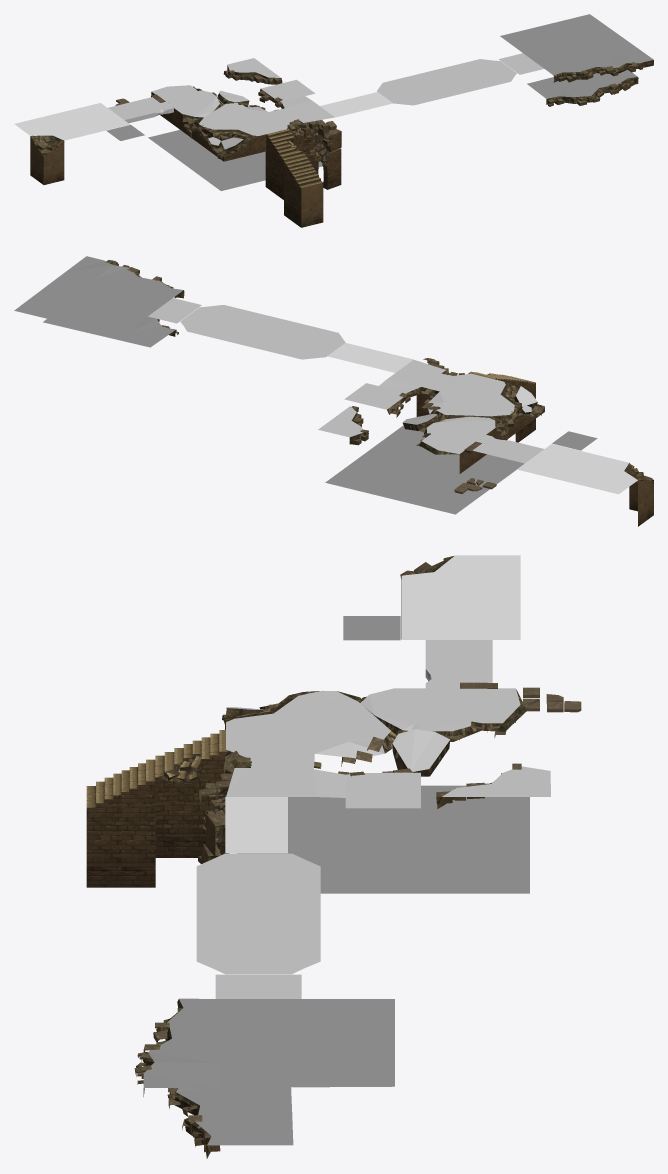
Rendered from hjzc_Terrain_001.FBX.
The picture shows the model from 3 angles, top to bottom: view 1: azimuth 30°, elevation 25°; view 2: azimuth 150°, elevation 25°; view 3: azimuth 270°, elevation 25°; orthographic projection. The views are drawn at different scales.
Parts seen in each view (by area): view 1: hjzc_Terrain_005, hjzc_Terrain_bosstai001, hjzc_Terrain_002, hjzc_Terrain_006, hjzc_Terrain_007, hjzc_Terrain_dizi002, hjzc_Terrain_001, hjzc_Terrain_011, hjzc_Terrain_qiangti002, hjzc_Terrain_dizi001, hjzc_Terrain_bosstai003, hjzc_Terrain_004 (+5 smaller); view 2: hjzc_Terrain_005, hjzc_Terrain_007, hjzc_Terrain_bosstai001, hjzc_Terrain_002, hjzc_Terrain_006, hjzc_Terrain_001, hjzc_Terrain_bosstai003, hjzc_Terrain_010, hjzc_Terrain_qiangti002, hjzc_Terrain_004, hjzc_Terrain_003, hjzc_Terrain_dizi002 (+2 smaller); view 3: hjzc_Terrain_005, hjzc_Terrain_007, hjzc_Terrain_bosstai001, hjzc_Terrain_002, hjzc_Terrain_001, hjzc_Terrain_dizi002, hjzc_Terrain_dizi001, hjzc_Terrain_bosstai003, hjzc_Terrain_006, hjzc_Terrain_010, hjzc_Terrain_004, hjzc_Terrain_003 (+4 smaller).
Part boxes in pixels (x1,y1,x2,y2): hjzc_Terrain_005: (151, 58, 334, 149); hjzc_Terrain_bosstai001: (500, 14, 653, 75); hjzc_Terrain_002: (377, 59, 516, 105); hjzc_Terrain_006: (151, 65, 304, 161); hjzc_Terrain_007: (148, 130, 322, 190); hjzc_Terrain_dizi002: (284, 157, 323, 227); hjzc_Terrain_001: (14, 103, 129, 140); hjzc_Terrain_011: (299, 120, 341, 189); hjzc_Terrain_qiangti002: (30, 135, 64, 184); hjzc_Terrain_dizi001: (265, 128, 306, 199); hjzc_Terrain_bosstai003: (527, 70, 637, 98); hjzc_Terrain_004: (108, 97, 173, 123); hjzc_Terrain_005: (318, 360, 537, 453); hjzc_Terrain_007: (325, 425, 524, 514); hjzc_Terrain_bosstai001: (14, 256, 183, 336); hjzc_Terrain_002: (180, 305, 345, 359); hjzc_Terrain_006: (349, 370, 544, 473); hjzc_Terrain_001: (517, 444, 637, 494); hjzc_Terrain_bosstai003: (43, 316, 174, 347); hjzc_Terrain_010: (327, 343, 413, 372); hjzc_Terrain_qiangti002: (624, 463, 653, 526); hjzc_Terrain_004: (472, 435, 543, 463); hjzc_Terrain_003: (148, 298, 201, 323); hjzc_Terrain_dizi002: (492, 373, 535, 442); hjzc_Terrain_005: (226, 688, 550, 808); hjzc_Terrain_007: (237, 785, 529, 893); hjzc_Terrain_bosstai001: (143, 998, 394, 1087); hjzc_Terrain_002: (196, 853, 320, 974); hjzc_Terrain_001: (401, 555, 520, 639); hjzc_Terrain_dizi002: (86, 759, 155, 887); hjzc_Terrain_dizi001: (155, 730, 229, 857); hjzc_Terrain_bosstai003: (176, 1087, 293, 1145); hjzc_Terrain_006: (222, 689, 526, 808); hjzc_Terrain_010: (225, 797, 287, 853); hjzc_Terrain_004: (425, 640, 492, 688); hjzc_Terrain_003: (215, 974, 301, 998).
Bounding box in the file's own units: 13257 × 5193 × 1625.
